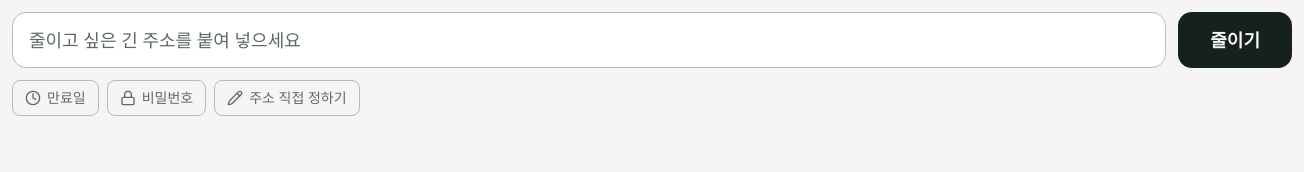
Test: Composer › 서버가 오류를 돌려주면 화면에 보여 준다
The width and height of the screenshot is (1304, 172).
Type "https://example.com" into the field named "줄일 주소" at (589, 40), box 12,12 -> 1166,68
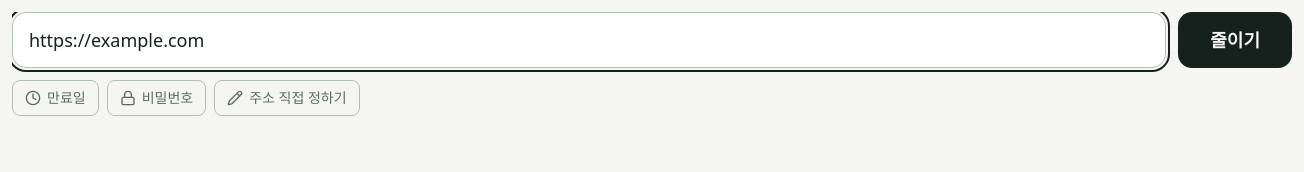
Click the button "줄이기" at (1235, 40), box 1178,12 -> 1292,68
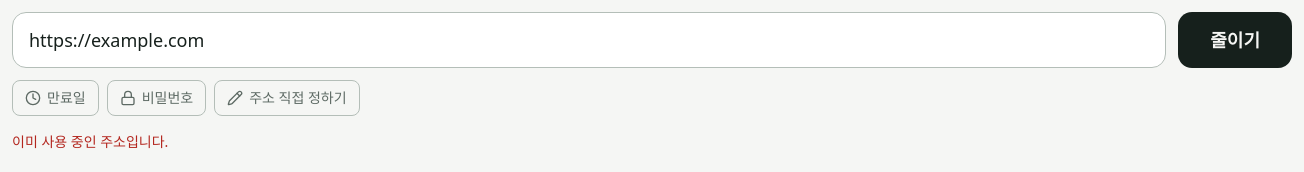
Expected: the message reads "이미 사용 중인 주소입니다.", 12,132 -> 168,151
